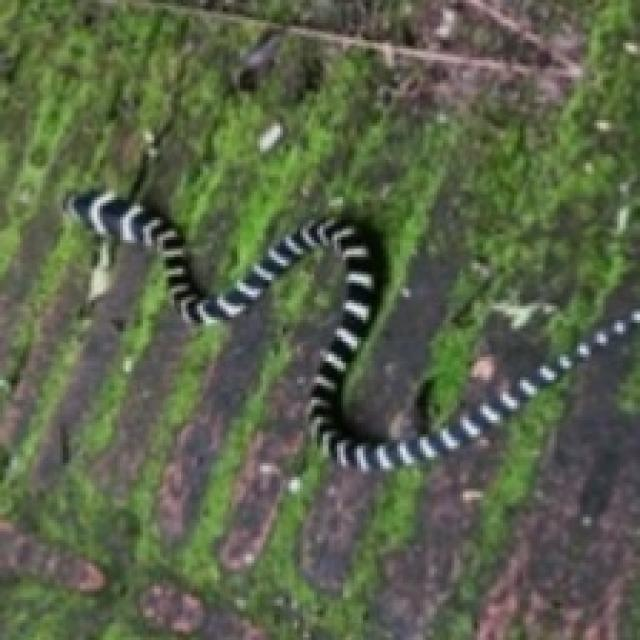king cobra: (66, 191, 637, 471)
